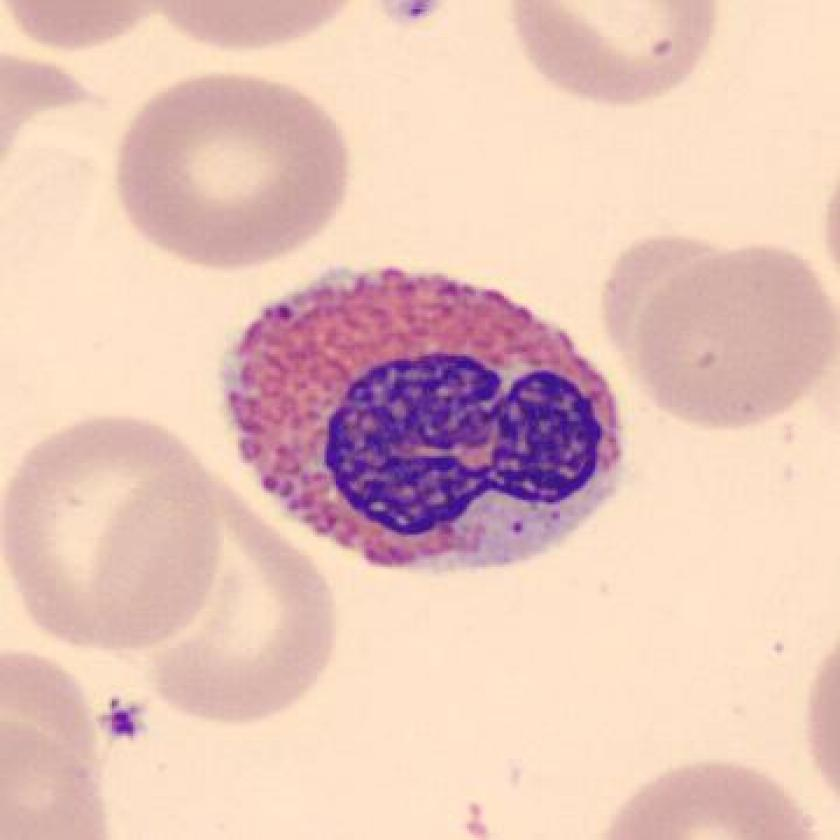eosinophil: (209, 256, 643, 591)
